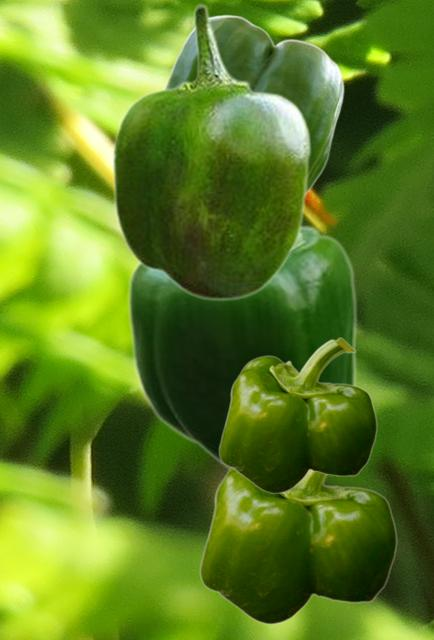bell_pepper: (111, 3, 311, 301), (125, 221, 357, 470), (164, 14, 343, 192), (199, 468, 396, 624), (218, 337, 376, 493)
